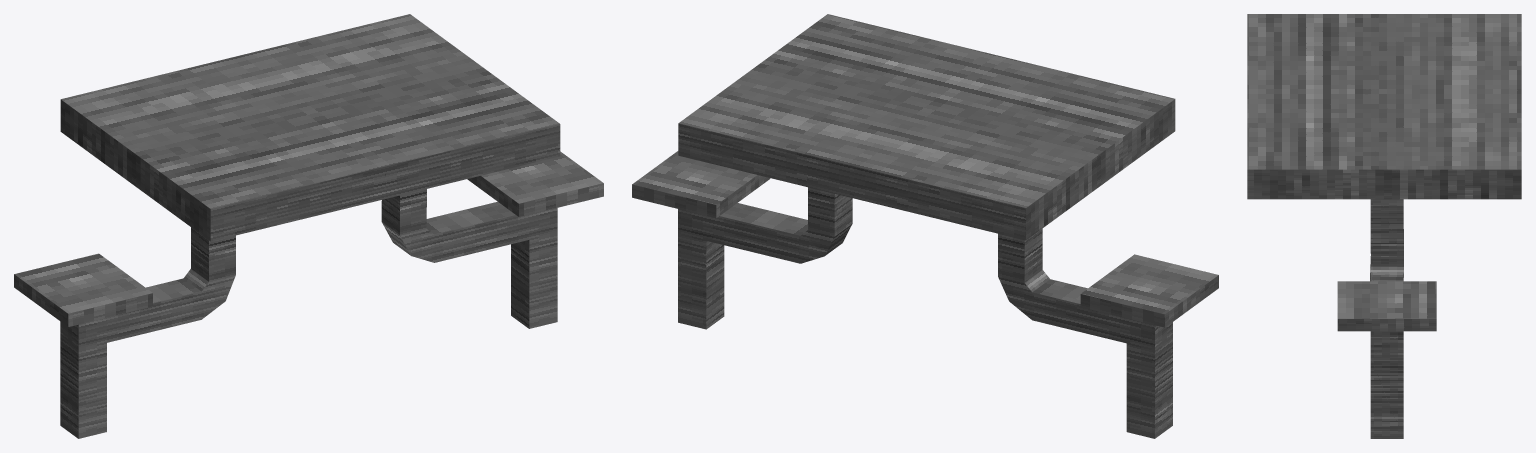
File: Table.glb
The picture shows the model from 3 angles, left to right: view 1: azimuth 30°, elevation 25°; view 2: azimuth 150°, elevation 25°; view 3: azimuth 270°, elevation 25°; orthographic projection. The views are drawn at different scales.
Visible parts, largest first — view 1: Bench; view 2: Bench; view 3: Bench.
Part boxes in pixels (x1,y1,x2,y2): Bench: [14, 14, 603, 438]; Bench: [632, 14, 1218, 438]; Bench: [1247, 14, 1521, 438].
Bounding box in the file's own units: 11.19 × 5.26 × 5.44.
Materials: 1 (1 with a texture image).
